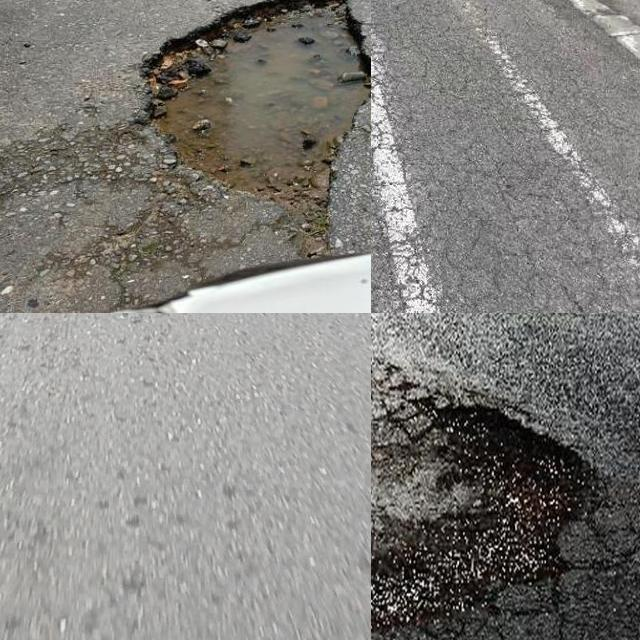Lubang: (371, 408, 601, 620), (141, 0, 371, 204)
Retak Buaya: (371, 36, 624, 313)
